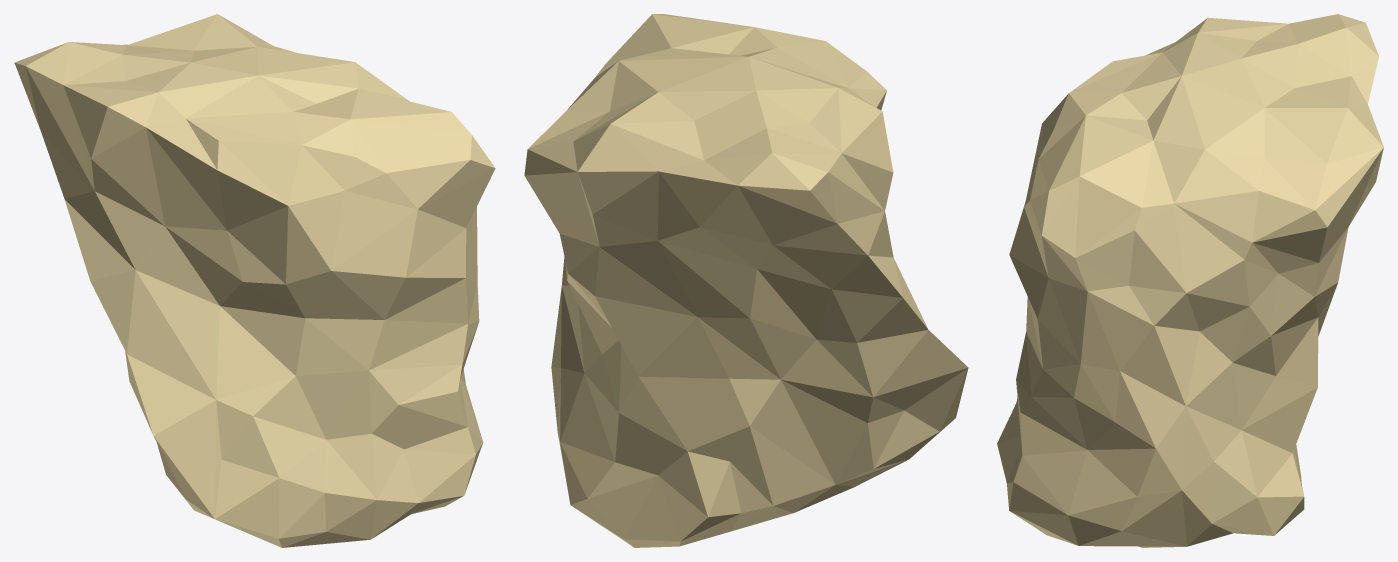
The model's file is Asteroid (94).fbx.
3 views of the same model, side by side, from view 1: azimuth 30°, elevation 25°; view 2: azimuth 150°, elevation 25°; view 3: azimuth 270°, elevation 25° (orthographic). The views are drawn at different scales.
Visible parts, largest first — view 1: Asteroid188; view 2: Asteroid188; view 3: Asteroid188.
Boxes of the visible parts, x1=… form: Asteroid188: x1=14, y1=14, x2=495, y2=547; Asteroid188: x1=524, y1=14, x2=968, y2=547; Asteroid188: x1=997, y1=14, x2=1383, y2=547.
Bounding box in the file's own units: 297 × 371 × 296.
